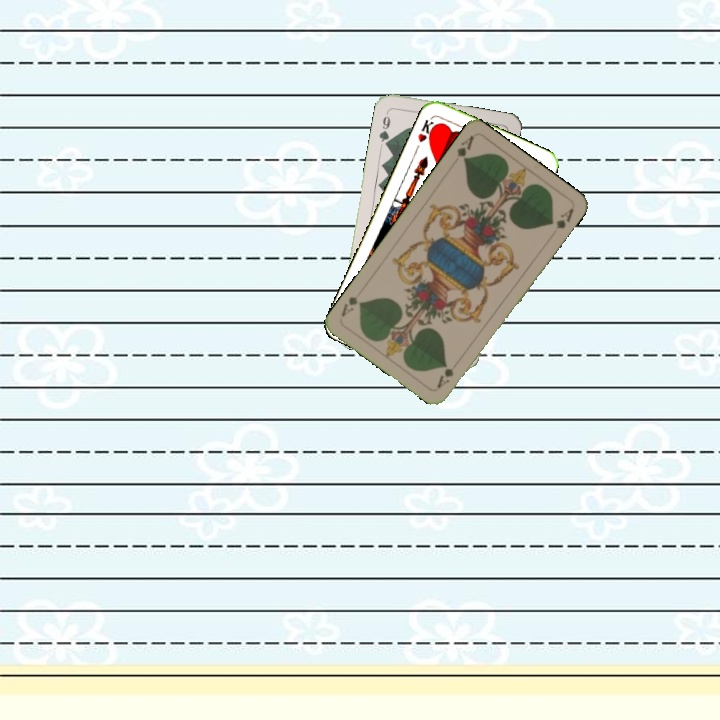G9: (375, 107, 393, 148)
GA: (433, 356, 462, 391), (453, 132, 476, 164)
HK: (414, 115, 440, 145)
